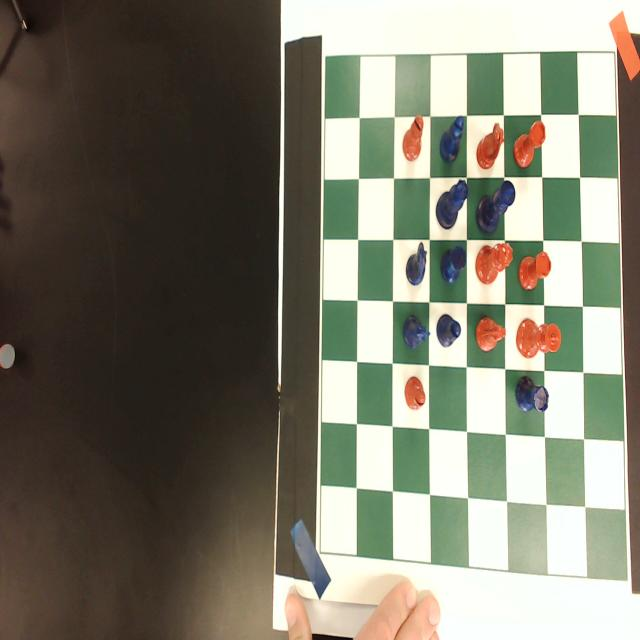B: (439, 114, 464, 169), (435, 313, 461, 349)
K: (476, 180, 516, 234)
N: (405, 239, 427, 288), (402, 311, 430, 349)
Q: (436, 178, 470, 230)
R: (514, 373, 550, 417), (440, 243, 468, 284)
b: (401, 113, 424, 162), (404, 373, 426, 412)
k: (515, 317, 563, 360)
n: (476, 122, 506, 172), (475, 316, 507, 354)
q: (474, 241, 514, 285)
r: (512, 120, 546, 170), (516, 249, 552, 292)
